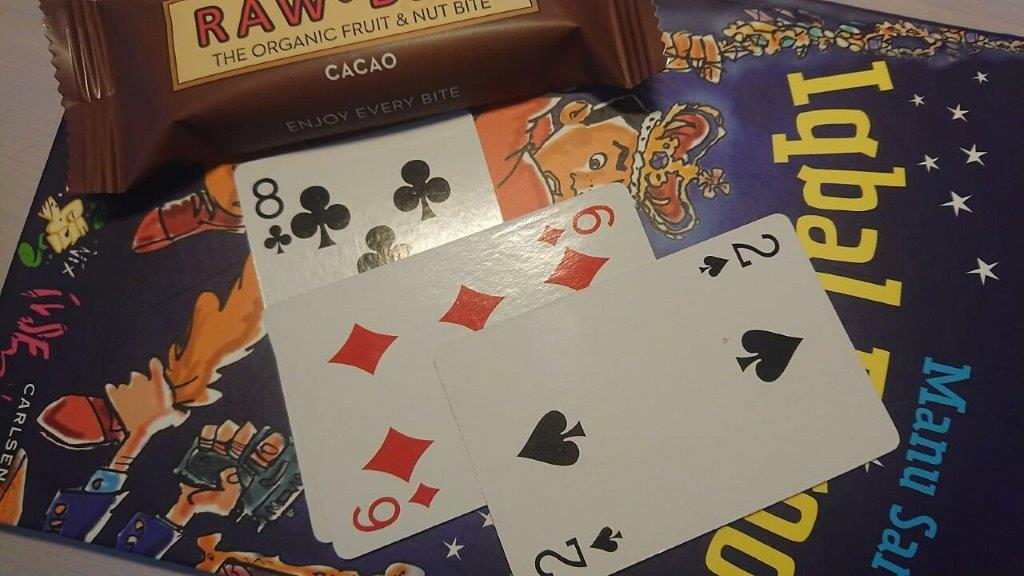8C: (247, 174, 294, 256)
